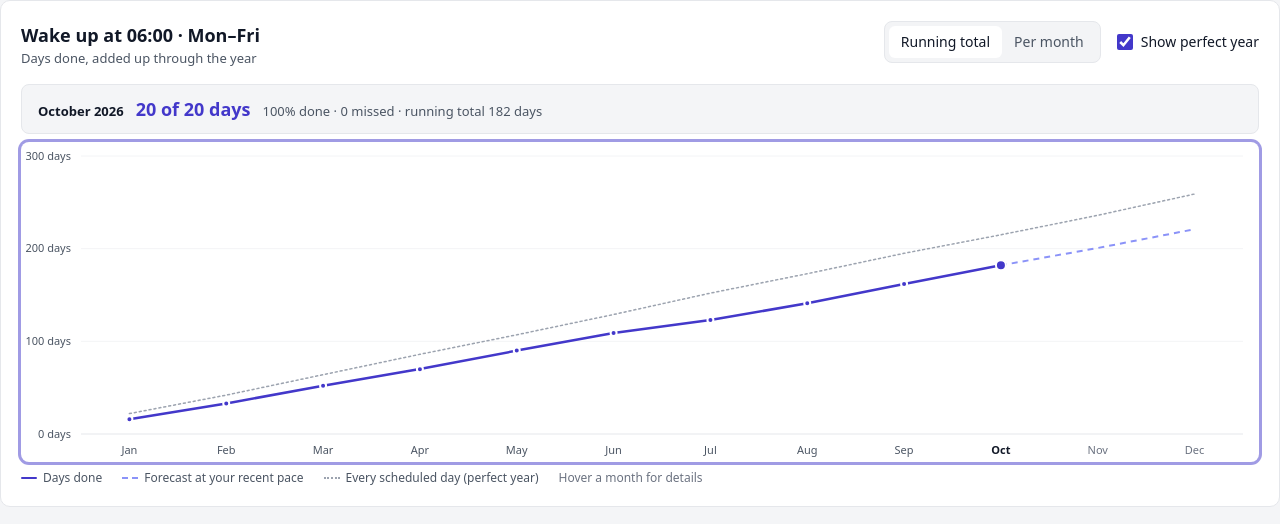
Test: RoutineChart › shows this month, reads months with the keyboard, and switches mode and perfect year
Press Arrowleft Arrowleft Arrowleft
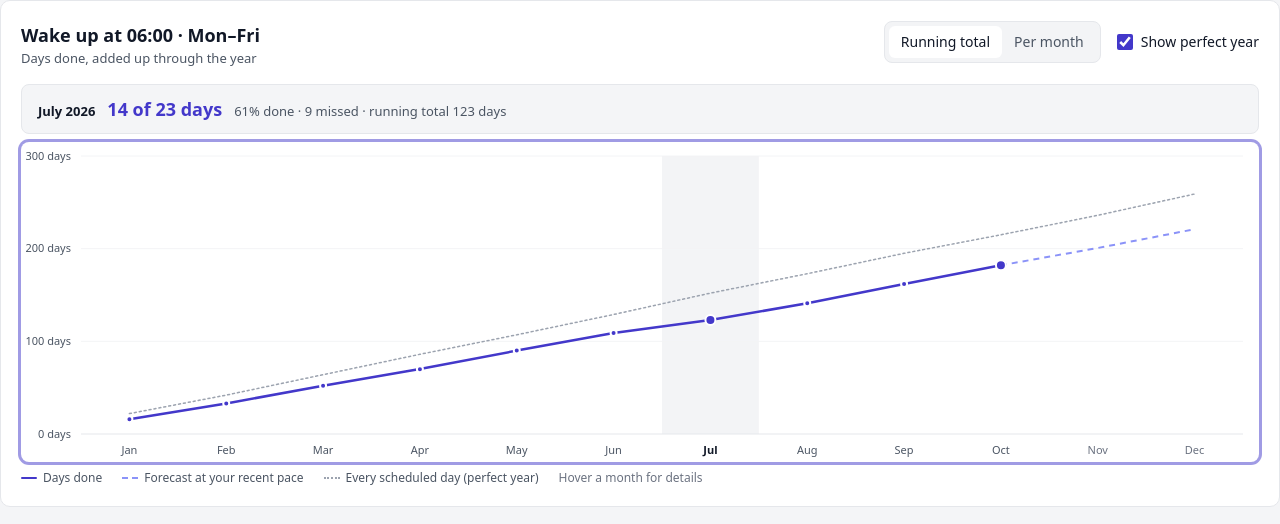
Now the slider named "choose a month" has attribute aria-valuetext="July 2026: 14 of 23 days, 61% done, 9 missed, running total 123 days", box [21,142,1259,462]
Press End
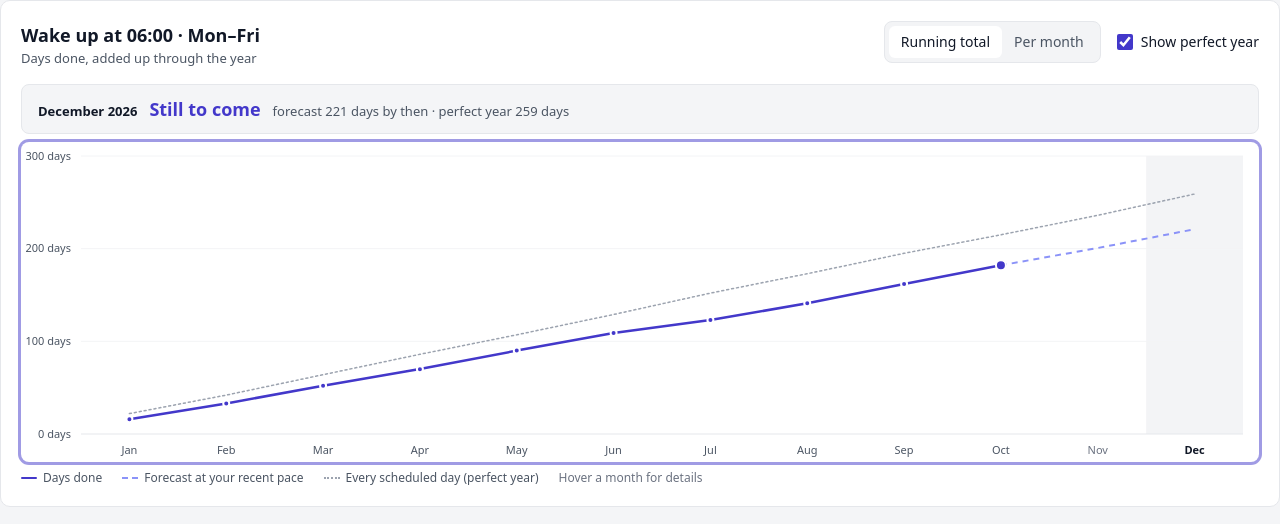
Expected: the list item "Every scheduled day (perfect year)" is shown, [324,470,538,486]
Now the slider named "choose a month" has attribute aria-valuetext="December 2026: Still to come, forecast 221 days by then, perfect year 259 days", box [21,142,1259,462]
Click the checkbox labelled "Show perfect year" at point(1125, 42), box [1117,34,1133,50]
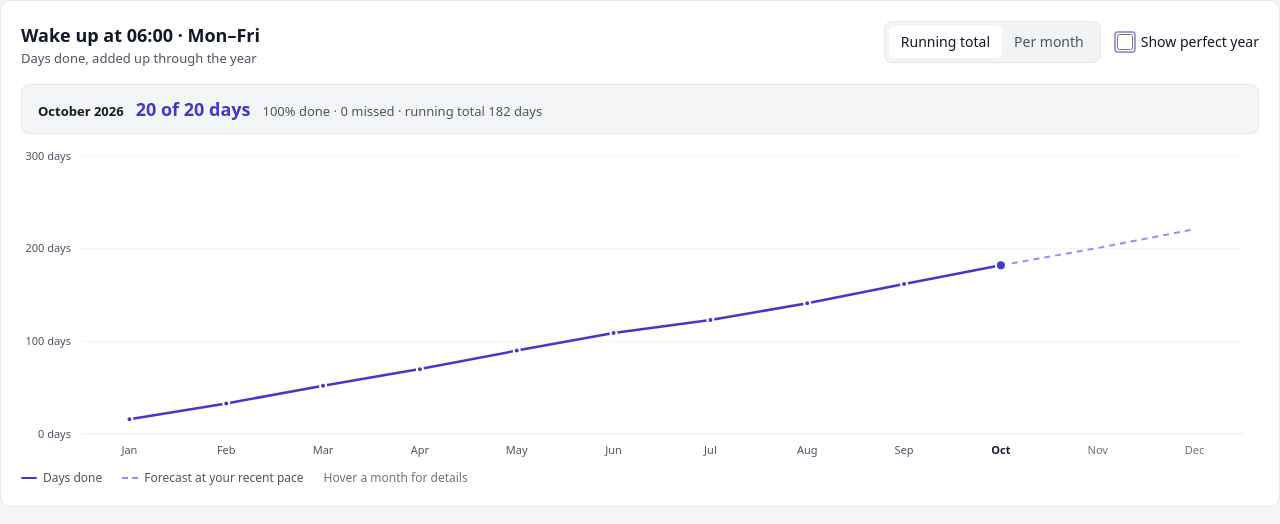
Now the list item "Every scheduled day (perfect year)" is gone
Click the button "Per month" at point(1049, 42), box [1002,26,1096,58]
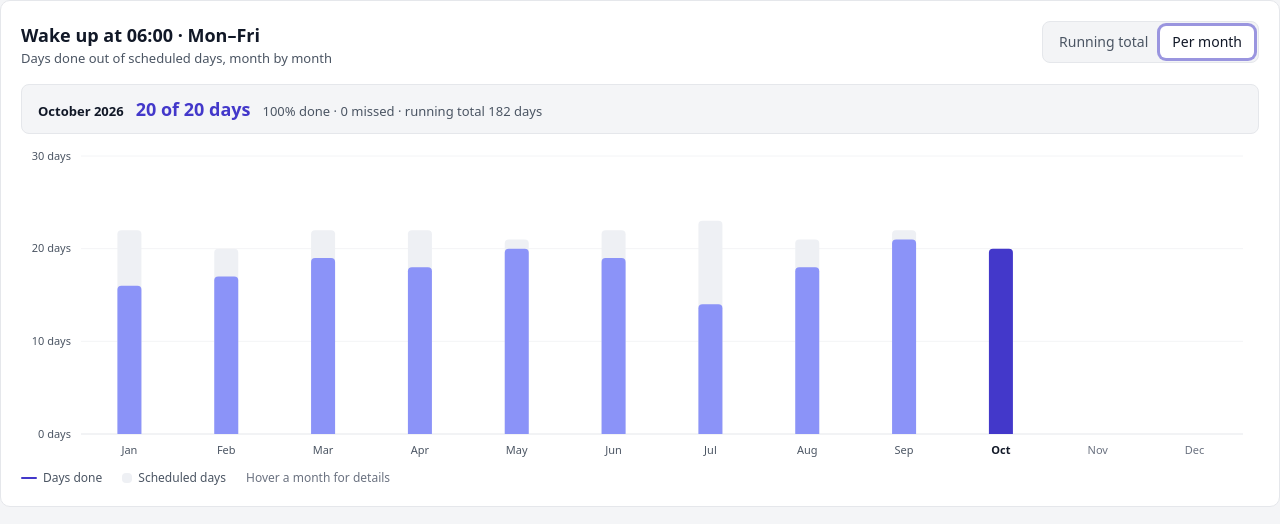
Now the text "Days done out of scheduled days, month by month" is shown, box [21,49,332,68]
Now the list item "Scheduled days" is shown, box [122,470,226,486]
Now the label "Show perfect year" is gone
